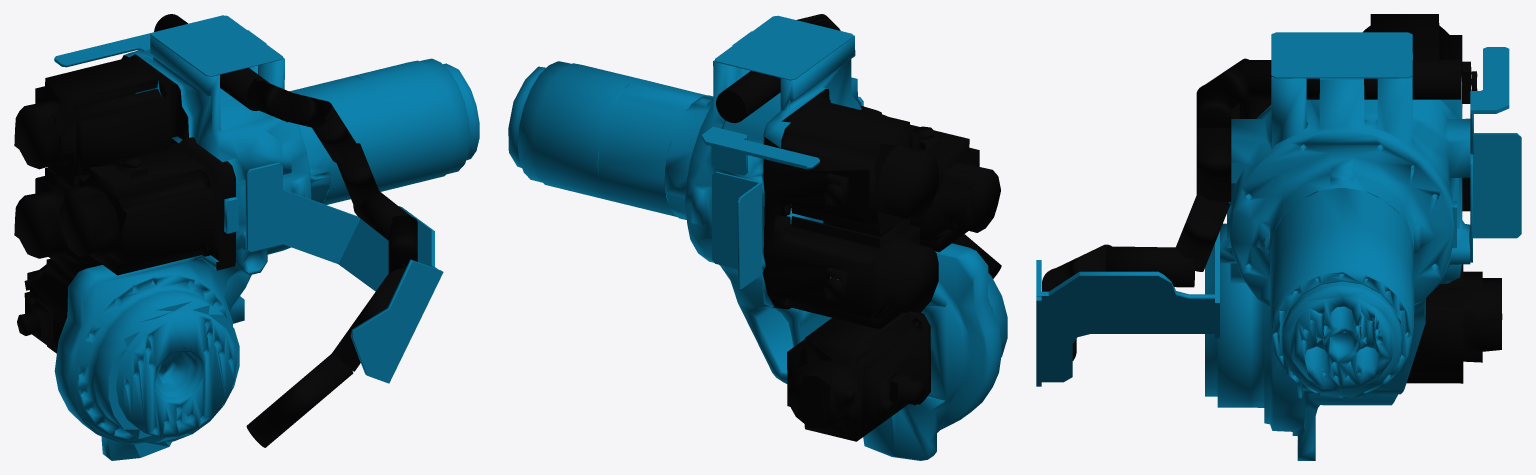
3 renders of one model, left to right at view 1: azimuth 30°, elevation 25°; view 2: azimuth 150°, elevation 25°; view 3: azimuth 270°, elevation 25°, orthographic. The views are drawn at different scales.
Parts seen in each view (by area): view 1: mh50-35_lk3, link3, link3.002, link3.003, link3.004, link3.005, link3.008, link3.006, link3.007; view 2: mh50-35_lk3, link3, link3.002; view 3: mh50-35_lk3, link3, link3.006, link3.005, link3.007, link3.004, link3.008.
Boxes of the visible parts, x1,y1,x2,y2 form: mh50-35_lk3: [14, 30, 479, 460]; link3: [54, 14, 443, 383]; link3.002: [246, 353, 353, 447]; link3.003: [332, 263, 406, 371]; link3.004: [388, 215, 417, 273]; link3.005: [336, 143, 379, 209]; link3.008: [244, 78, 293, 122]; link3.006: [312, 101, 357, 163]; link3.007: [281, 92, 331, 128]; mh50-35_lk3: [508, 31, 1007, 460]; link3: [701, 15, 863, 288]; link3.002: [952, 234, 1001, 278]; mh50-35_lk3: [1205, 14, 1502, 460]; link3: [1036, 32, 1521, 386]; link3.006: [1196, 127, 1231, 202]; link3.005: [1175, 193, 1229, 271]; link3.007: [1196, 83, 1231, 135]; link3.004: [1047, 244, 1111, 290]; link3.008: [1205, 58, 1252, 108].
Bounding box in the file's own units: 0.654 × 0.5492 × 0.5619.
